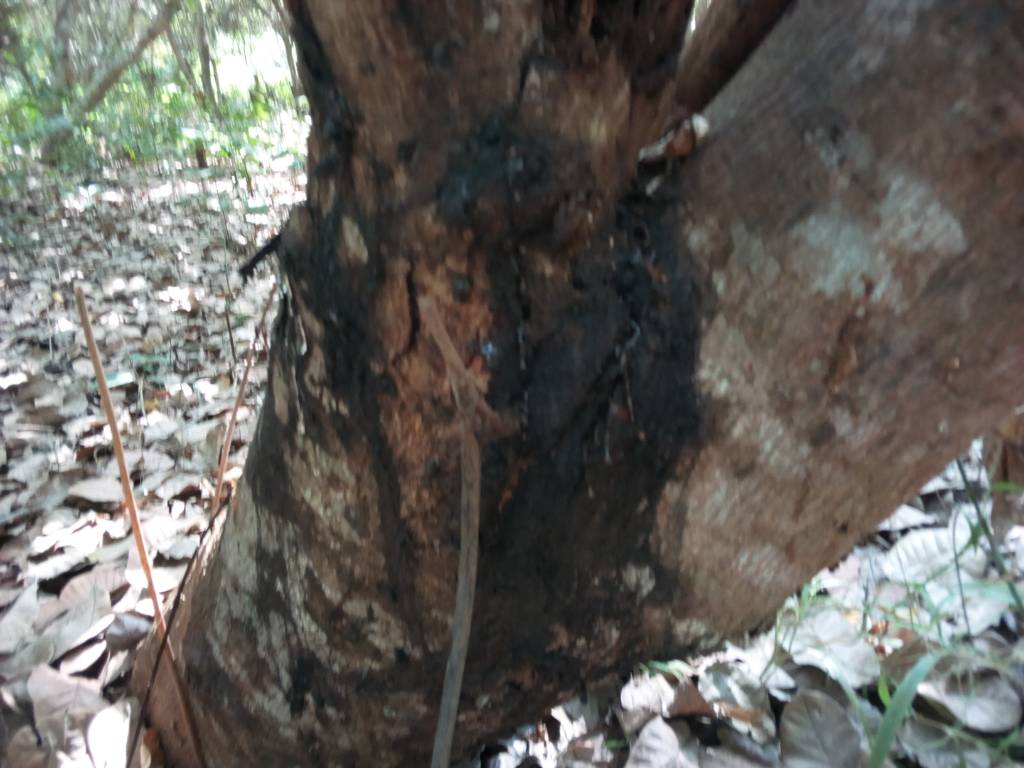Termites: (359, 356, 430, 658)
